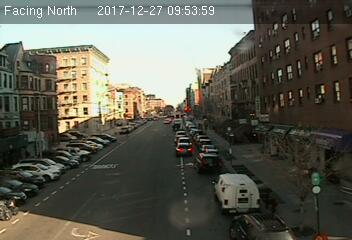car: (229, 208, 293, 240), (193, 152, 221, 173), (174, 142, 191, 155)
truck: (211, 172, 261, 212)
